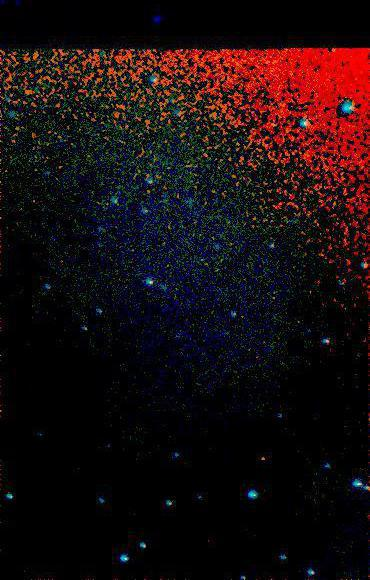star: (247, 442, 277, 472)
